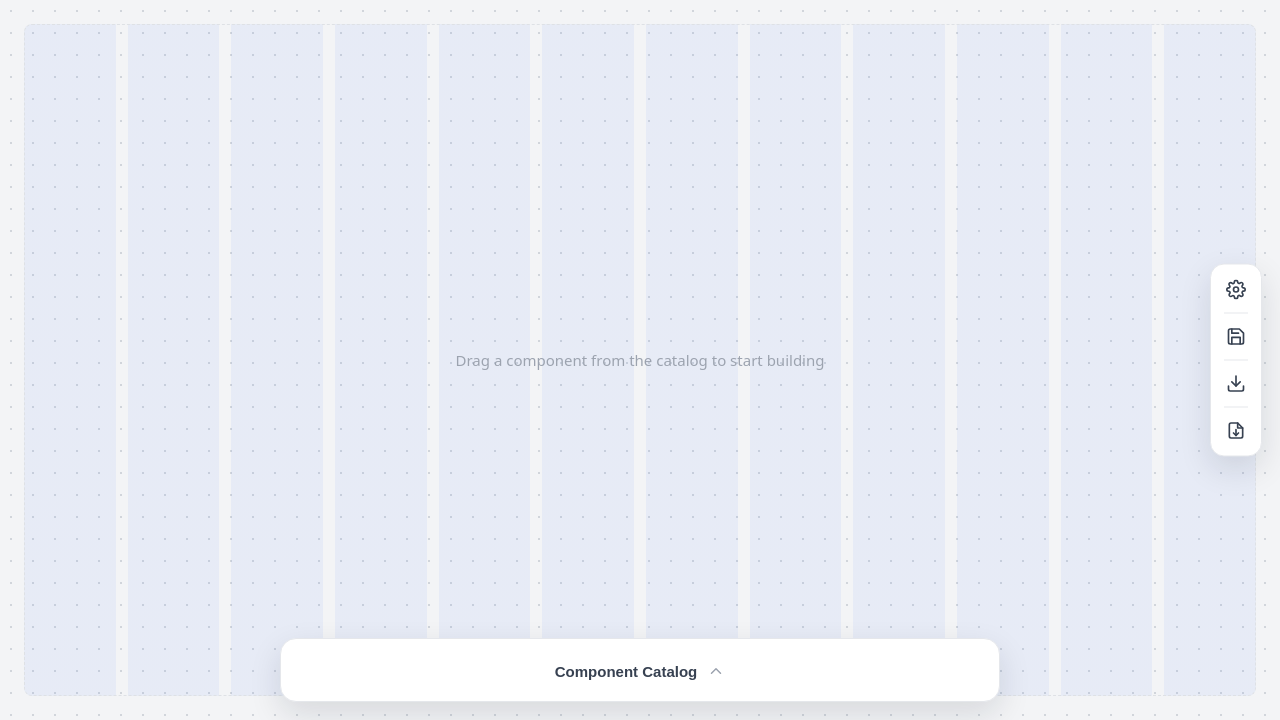
Test case: MainPage › should open the load dialog with an empty state
The image size is (1280, 720).
Click the button named "Load dashboard" at x=1236, y=384, box [1217,364,1255,402]
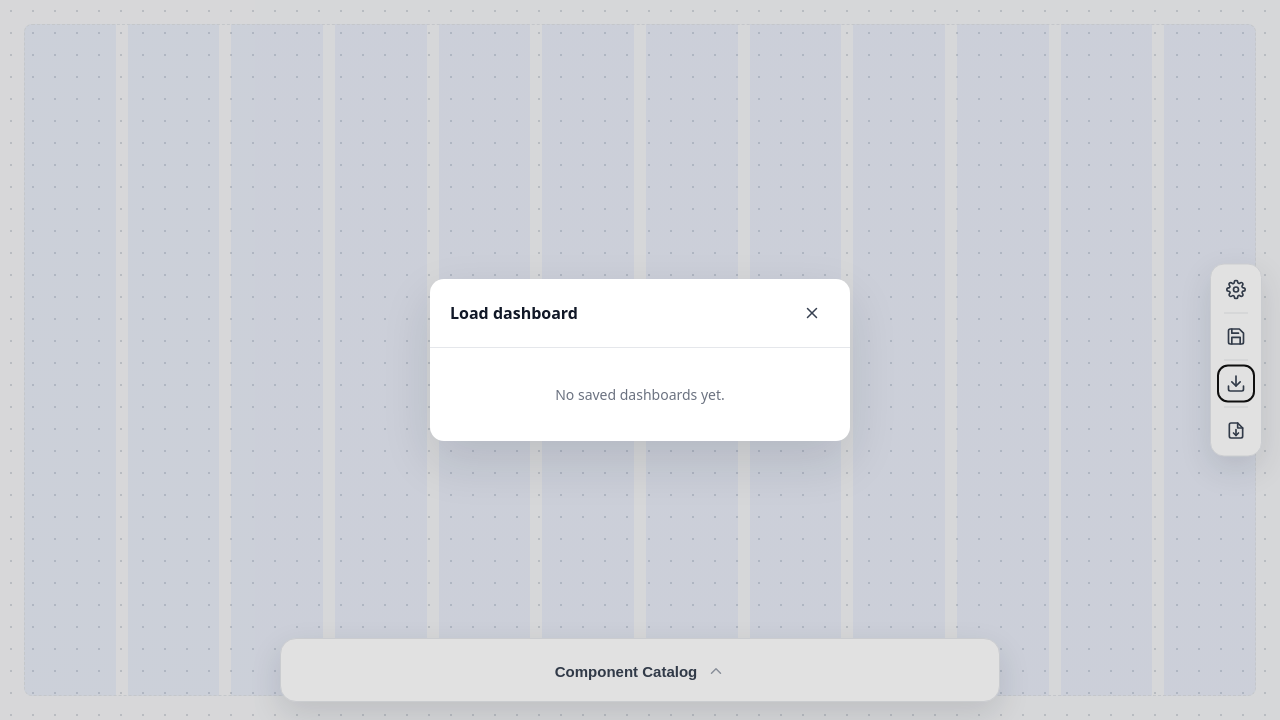
Check: the text "No saved dashboards yet." is shown, box [555,385,725,404]
